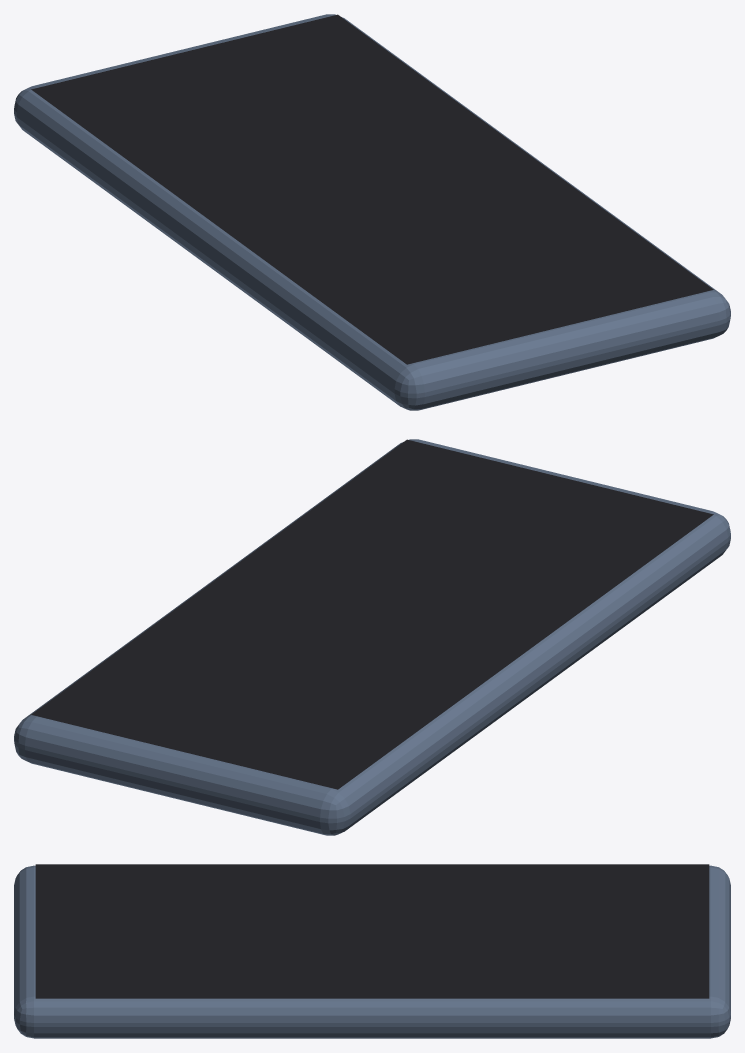
The model's file is Phone_52.glb.
The picture shows the model from 3 angles, top to bottom: view 1: azimuth 30°, elevation 25°; view 2: azimuth 150°, elevation 25°; view 3: azimuth 270°, elevation 25°; orthographic projection. The views are drawn at different scales.
Visible parts, largest first — view 1: Phone_Screen, Phone_Body; view 2: Phone_Screen, Phone_Body; view 3: Phone_Screen, Phone_Body.
Boxes of the visible parts, box(x1,y1,x2,y2) form: Phone_Screen: box(31, 14, 713, 364); Phone_Body: box(14, 14, 730, 410); Phone_Screen: box(31, 439, 713, 789); Phone_Body: box(14, 439, 730, 835); Phone_Screen: box(35, 864, 709, 998); Phone_Body: box(14, 865, 730, 1038).
Size of the model in its own units: 0.0757 by 0.0098 by 0.1572.
